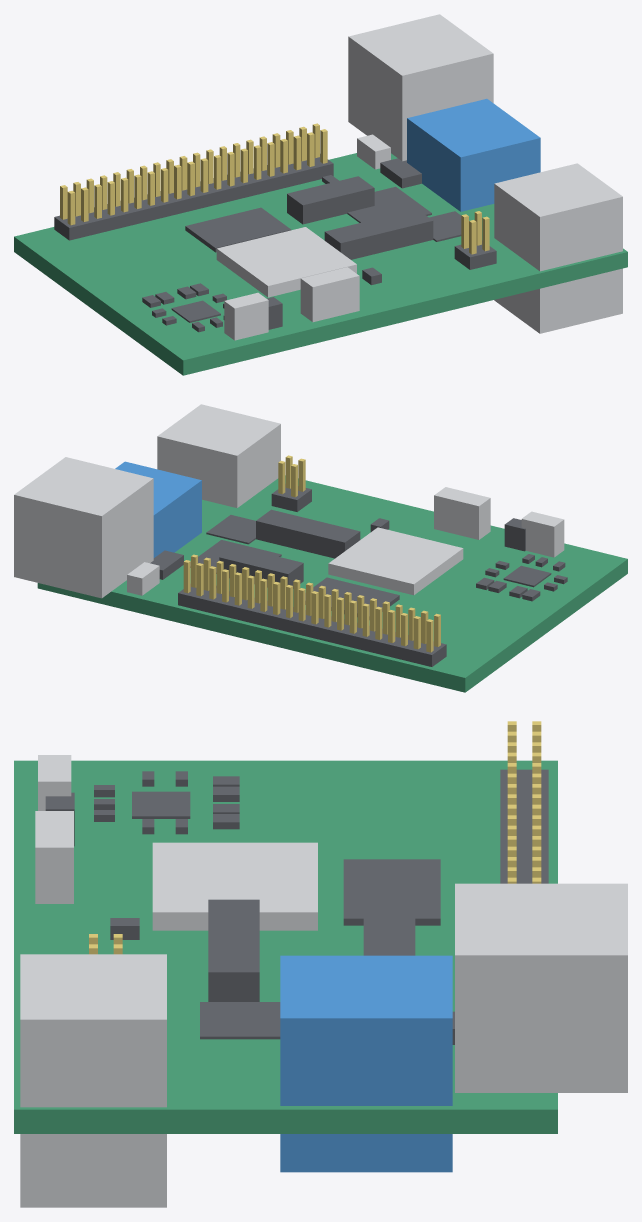
The model's file is raspberry-pi-5.glb.
The picture shows the model from 3 angles, top to bottom: view 1: azimuth 30°, elevation 25°; view 2: azimuth 150°, elevation 25°; view 3: azimuth 270°, elevation 25°; orthographic projection. The views are drawn at different scales.
Visible parts, largest first — view 1: Raspberry_Pi_5; view 2: Raspberry_Pi_5; view 3: Raspberry_Pi_5.
Part boxes in pixels (x1=…): Raspberry_Pi_5: x1=14, y1=14, x2=627, y2=375; Raspberry_Pi_5: x1=14, y1=404, x2=627, y2=692; Raspberry_Pi_5: x1=14, y1=721, x2=627, y2=1207.
Bounding box in the file's own units: 8.55 × 2.92 × 6.32.
